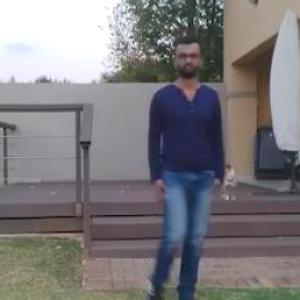follow: (132, 32, 227, 299)
